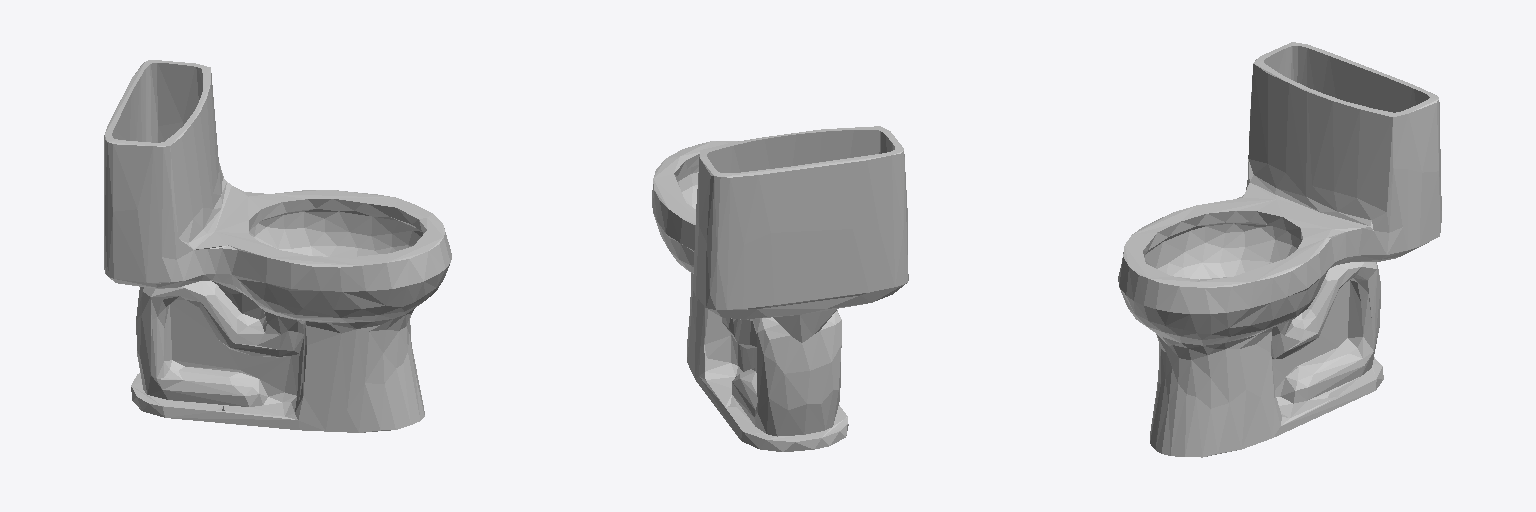
File: toilet_1451.obj
3 renders of one model, left to right at view 1: azimuth 30°, elevation 25°; view 2: azimuth 150°, elevation 25°; view 3: azimuth 270°, elevation 25°, orthographic.
Visible parts, largest first — view 1: bowl; view 2: bowl; view 3: bowl.
Boxes of the visible parts, box(x1,y1,x2,y2) form: bowl: box(104, 60, 451, 432); bowl: box(652, 126, 908, 451); bowl: box(1118, 42, 1441, 457).
Size of the model in its own units: 1.81 by 1.74 by 1.76.